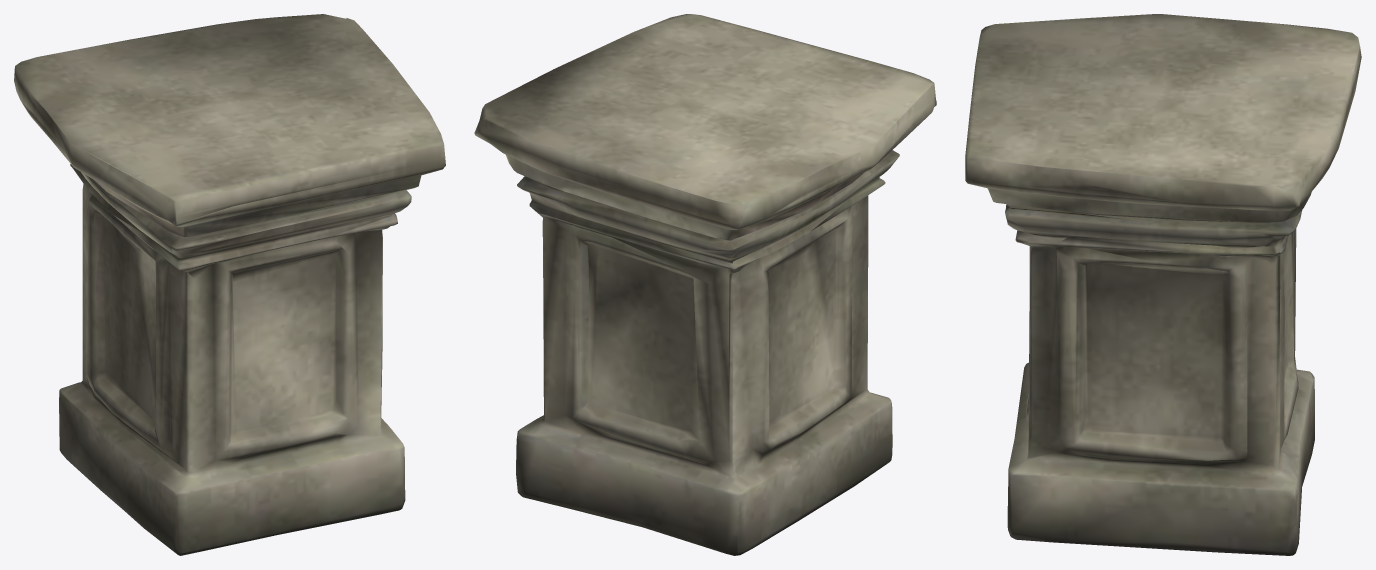
Rendered from old-limestone-gate-pillar-v001.glb.
3 renders of one model, left to right at view 1: azimuth 30°, elevation 25°; view 2: azimuth 150°, elevation 25°; view 3: azimuth 270°, elevation 25°, orthographic. The views are drawn at different scales.
Parts seen in each view (by area): view 1: old-limestone-gate-pillar; view 2: old-limestone-gate-pillar; view 3: old-limestone-gate-pillar.
Part boxes in pixels (x1=…): old-limestone-gate-pillar: x1=14, y1=14, x2=445, y2=555; old-limestone-gate-pillar: x1=474, y1=14, x2=936, y2=555; old-limestone-gate-pillar: x1=965, y1=14, x2=1361, y2=555.
Size of the model in its own units: 1.47 by 1.58 by 1.43.
Materials: 1 (1 with a texture image).
